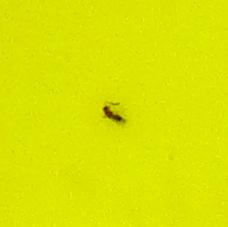Hymenoptera: (100, 100, 128, 127)
